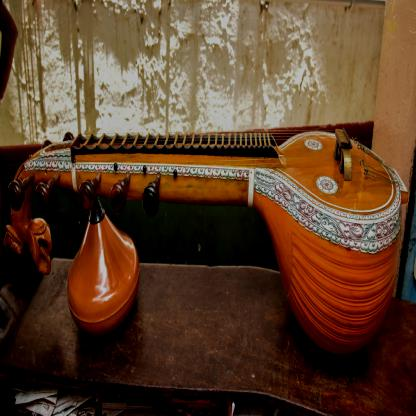Veena: (11, 117, 416, 222)
